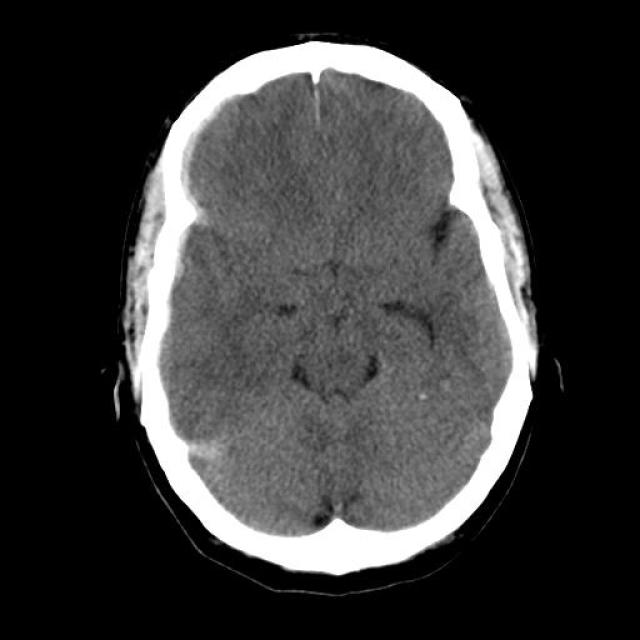Subdural: (112, 71, 264, 458)
